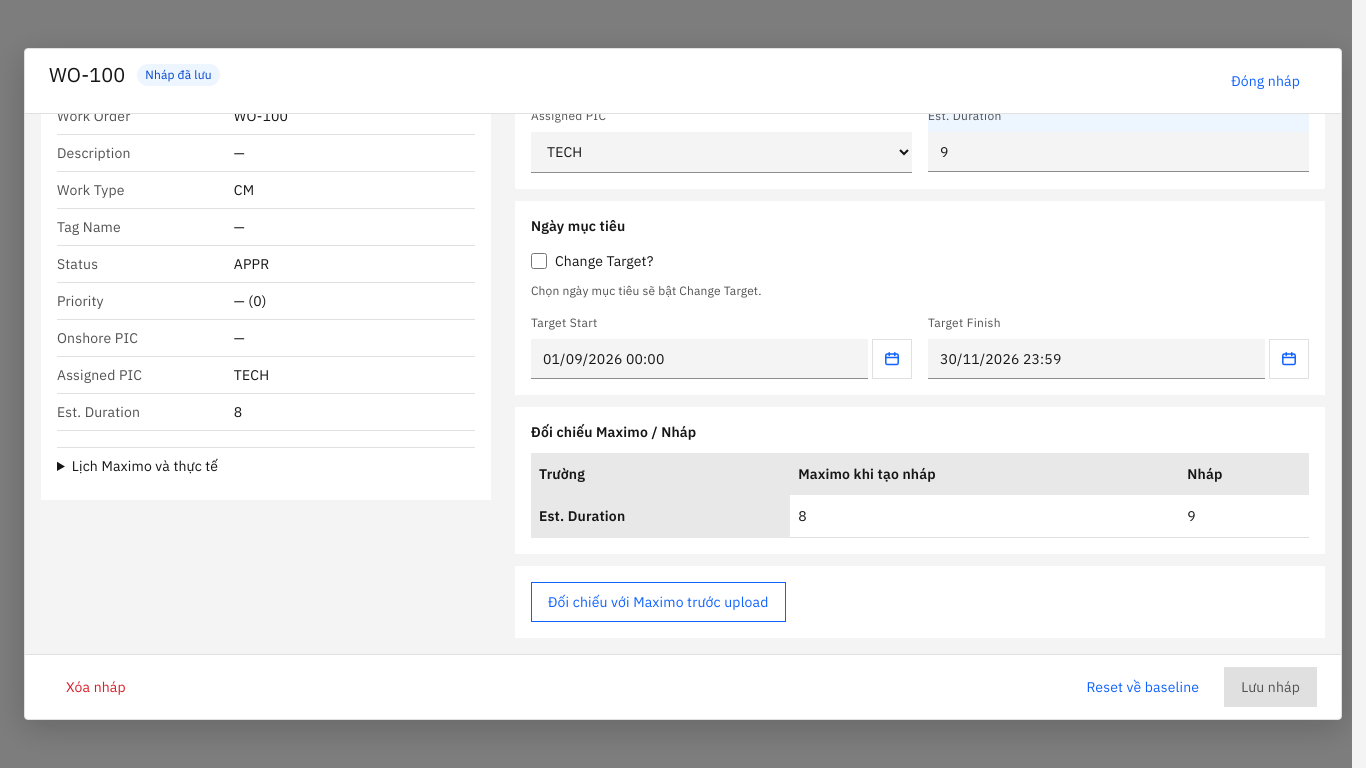
Test: shows a conflict with no changed fields instead of dropping the WO from preview
(page scrolled)
Expected: the field labelled "Est. Duration" is shown, [928,132,1309,172]
Click the button "Đối chiếu với Maximo trước upload": point(658, 602) [531,582,786,622]
(page scrolled)
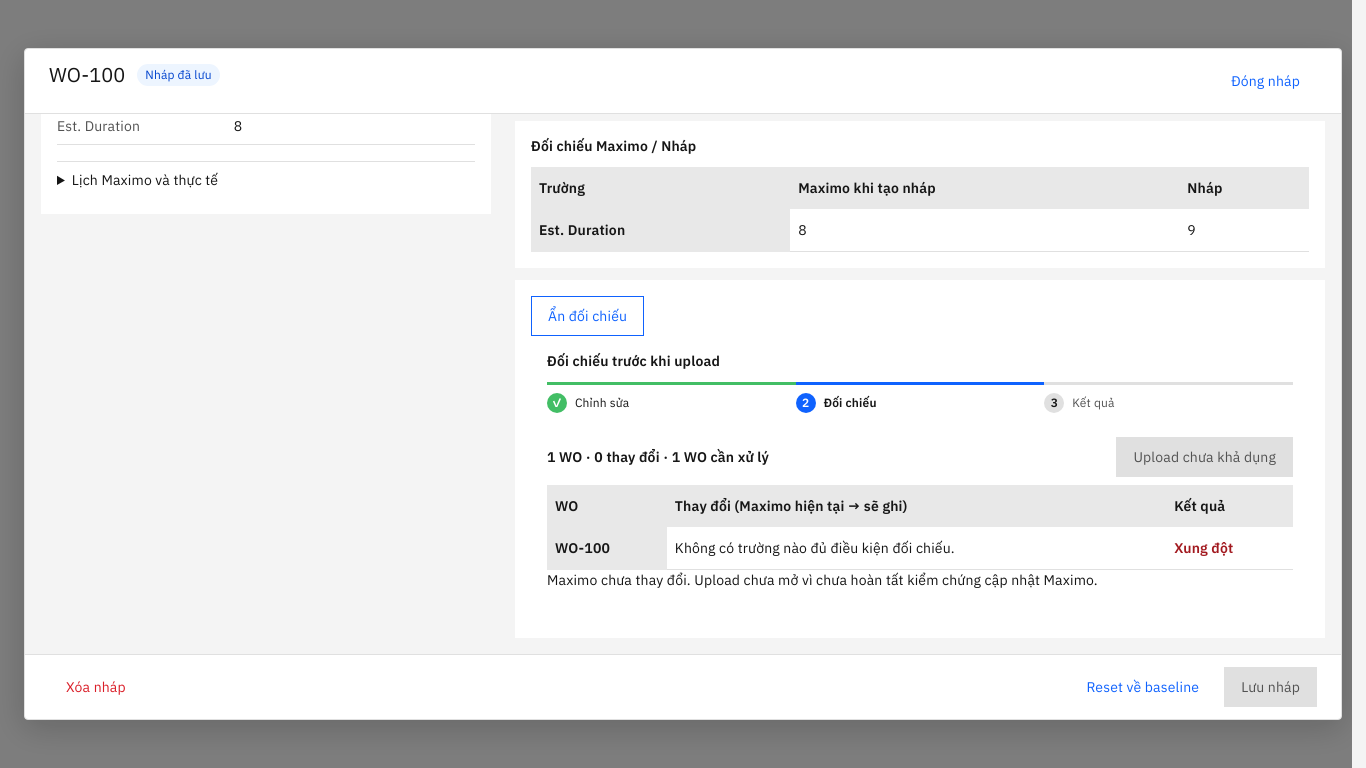
Now the text "Không có trường nào đủ điều kiện đối chiếu." is shown, box [667,527,1166,570]
Now the row "WO-100 Không có trường nào đủ điều kiện đối chiếu. Xung đột" is shown, box [547,527,1293,570]
